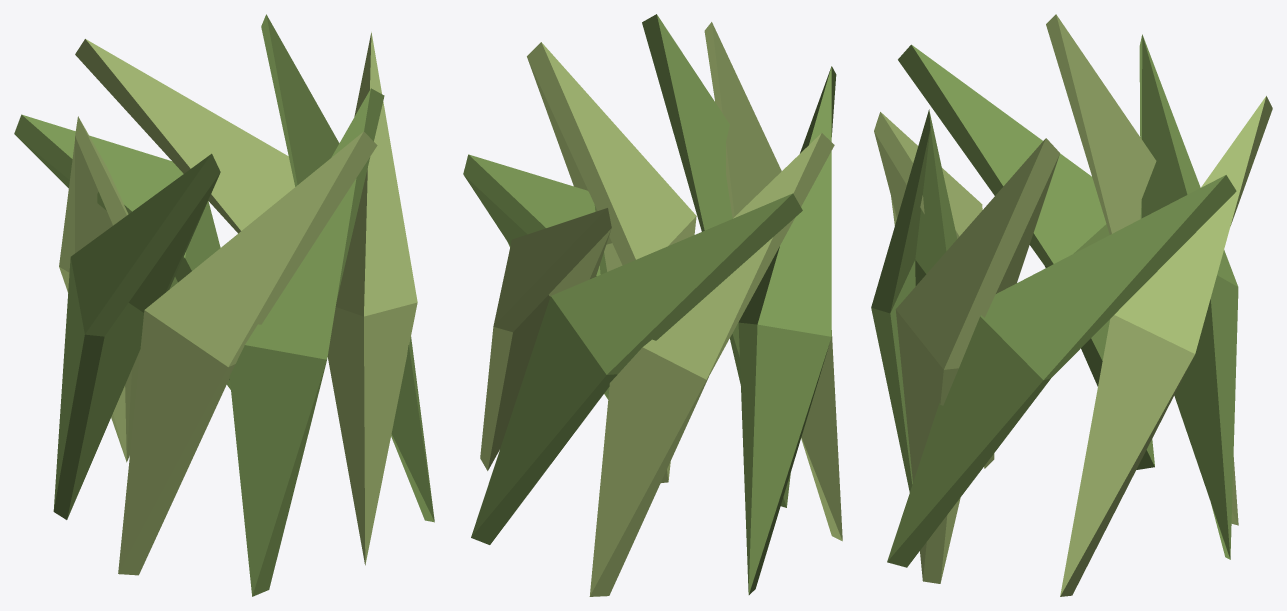
Rendered from CC_GrassTuft.fbx.
The picture shows the model from 3 angles, left to right: view 1: azimuth 30°, elevation 25°; view 2: azimuth 150°, elevation 25°; view 3: azimuth 270°, elevation 25°; orthographic projection.
Visible parts, largest first — view 1: Blade.008, Blade.003, Blade.005, Blade.006, Blade.004, Blade.001, Blade.007, Blade.002; view 2: Blade.007, Blade.005, Blade.002, Blade.006, Blade.004, Blade.008, Blade.003, Blade.001; view 3: Blade.001, Blade.004, Blade.006, Blade.007, Blade.005, Blade.003, Blade.002, Blade.008.
Boxes of the visible parts, x1=… form: Blade.008: x1=118, y1=131, x2=377, y2=575; Blade.003: x1=229, y1=88, x2=384, y2=596; Blade.005: x1=53, y1=153, x2=220, y2=519; Blade.006: x1=327, y1=32, x2=417, y2=565; Blade.004: x1=75, y1=39, x2=294, y2=233; Blade.001: x1=261, y1=14, x2=434, y2=522; Blade.007: x1=14, y1=114, x2=230, y2=389; Blade.002: x1=59, y1=116, x2=140, y2=462; Blade.007: x1=471, y1=193, x2=802, y2=544; Blade.005: x1=738, y1=66, x2=836, y2=594; Blade.002: x1=589, y1=133, x2=834, y2=596; Blade.006: x1=527, y1=42, x2=696, y2=482; Blade.004: x1=480, y1=208, x2=611, y2=470; Blade.008: x1=704, y1=22, x2=842, y2=541; Blade.003: x1=642, y1=14, x2=790, y2=507; Blade.001: x1=463, y1=154, x2=609, y2=399; Blade.001: x1=887, y1=175, x2=1236, y2=567; Blade.004: x1=1060, y1=96, x2=1272, y2=596; Blade.006: x1=895, y1=138, x2=1059, y2=583; Blade.007: x1=1139, y1=34, x2=1238, y2=559; Blade.005: x1=898, y1=44, x2=1154, y2=469; Blade.003: x1=871, y1=109, x2=957, y2=492; Blade.002: x1=1046, y1=14, x2=1238, y2=525; Blade.008: x1=874, y1=112, x2=994, y2=468.
Bounding box in the file's own units: 0.5063 × 0.6263 × 0.4783.
